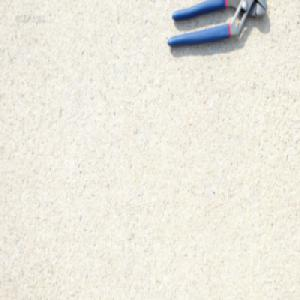Pliers: (166, 0, 268, 48)
